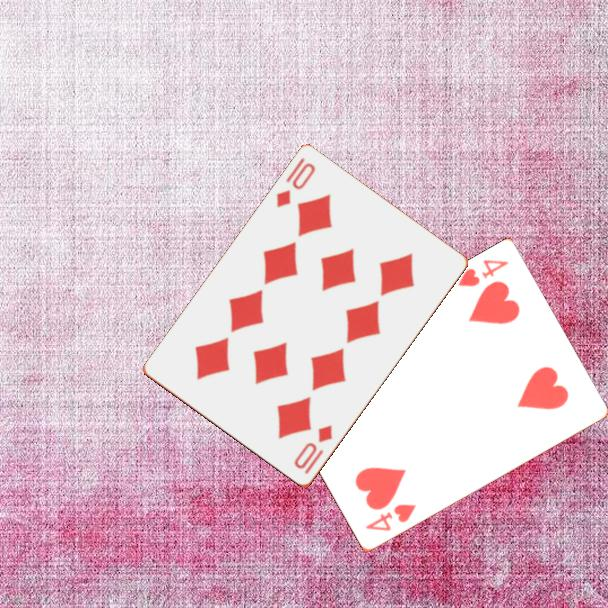d10: (273, 154, 318, 211), (290, 422, 335, 478)
h04: (454, 256, 512, 290), (362, 501, 419, 535)
